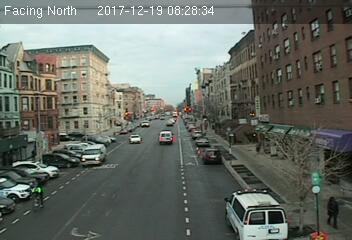bicycle: (29, 185, 44, 212)
car: (203, 146, 222, 164), (128, 133, 141, 143), (196, 137, 208, 146)
pedestrian: (327, 196, 340, 231)
police: (224, 186, 292, 240)
truck: (79, 144, 107, 165), (158, 131, 174, 144)
